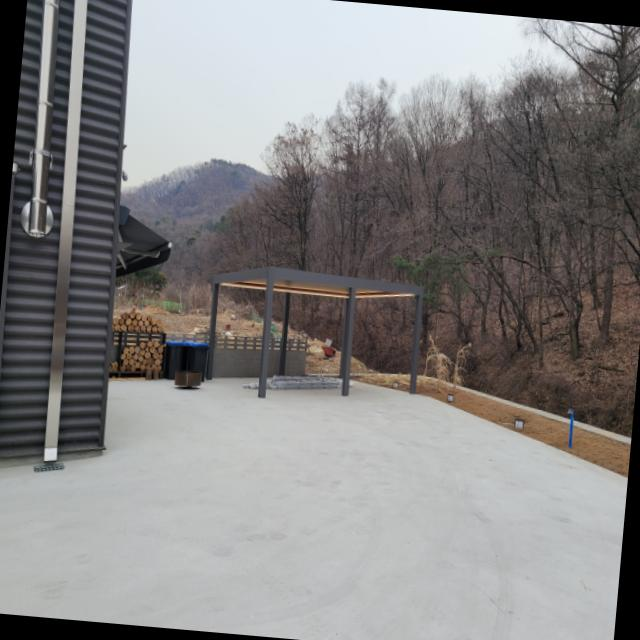cement: (0, 380, 627, 640)
red-sand: (419, 381, 630, 476)
